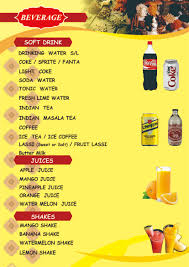coke: (138, 36, 186, 96)
